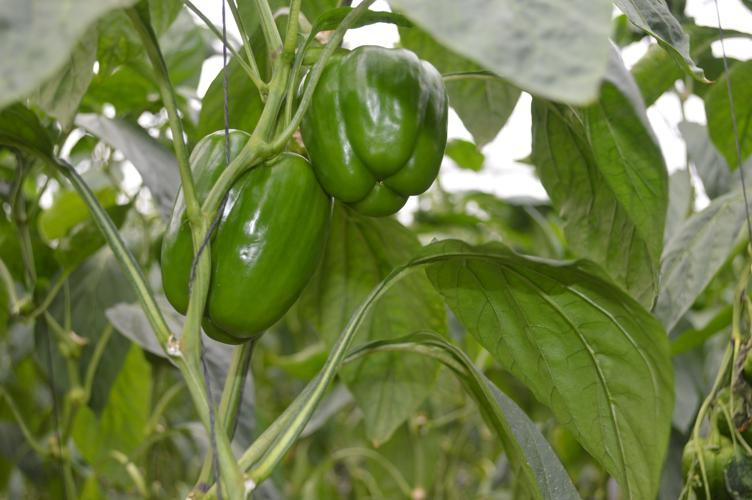BellPepper: (159, 128, 325, 341), (298, 44, 447, 213)
